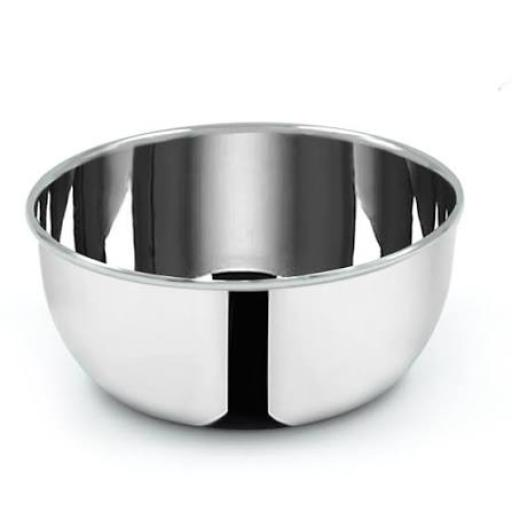Bowl: (26, 124, 463, 428)
